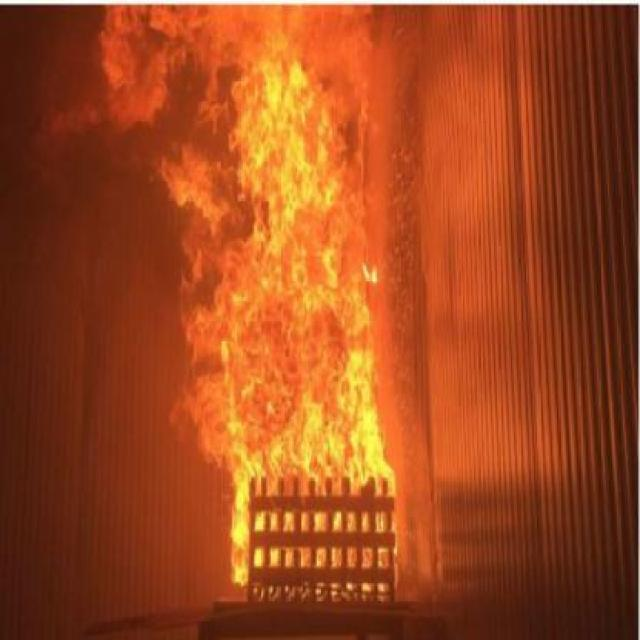Fire: (100, 0, 389, 474)
